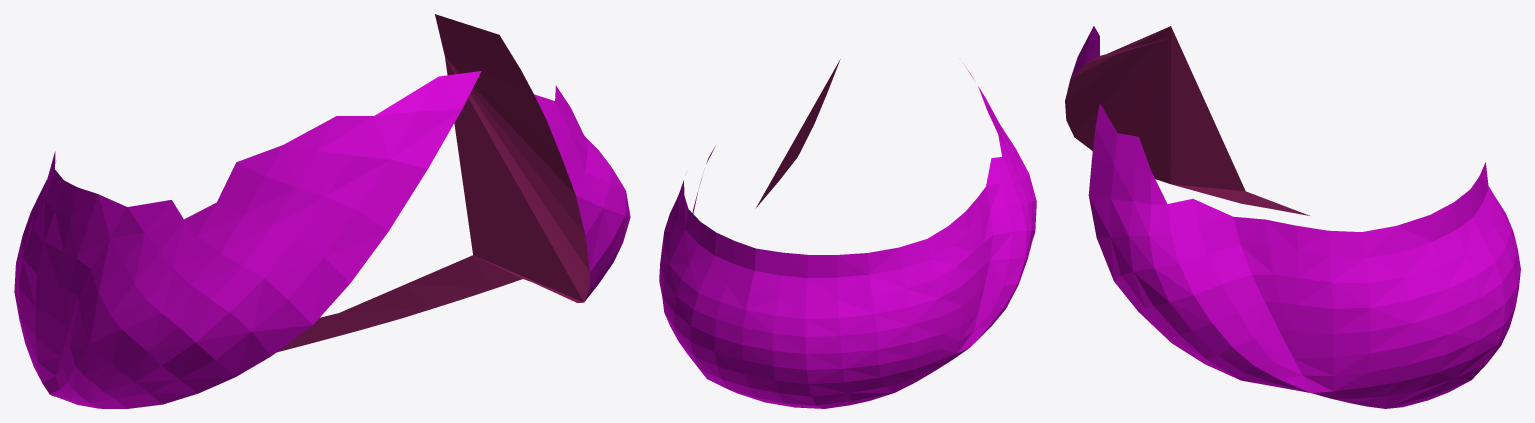
3 views of the same model, side by side, from view 1: azimuth 30°, elevation 25°; view 2: azimuth 150°, elevation 25°; view 3: azimuth 270°, elevation 25° (orthographic). The views are drawn at different scales.
Parts seen in each view (by area): view 1: shape; view 2: shape; view 3: shape.
Part boxes in pixels (bbox=[...]): shape: bbox=[14, 14, 630, 408]; shape: bbox=[659, 59, 1036, 408]; shape: bbox=[1065, 26, 1520, 408].
Size of the model in its own units: 66.19 by 56.31 by 65.03.
